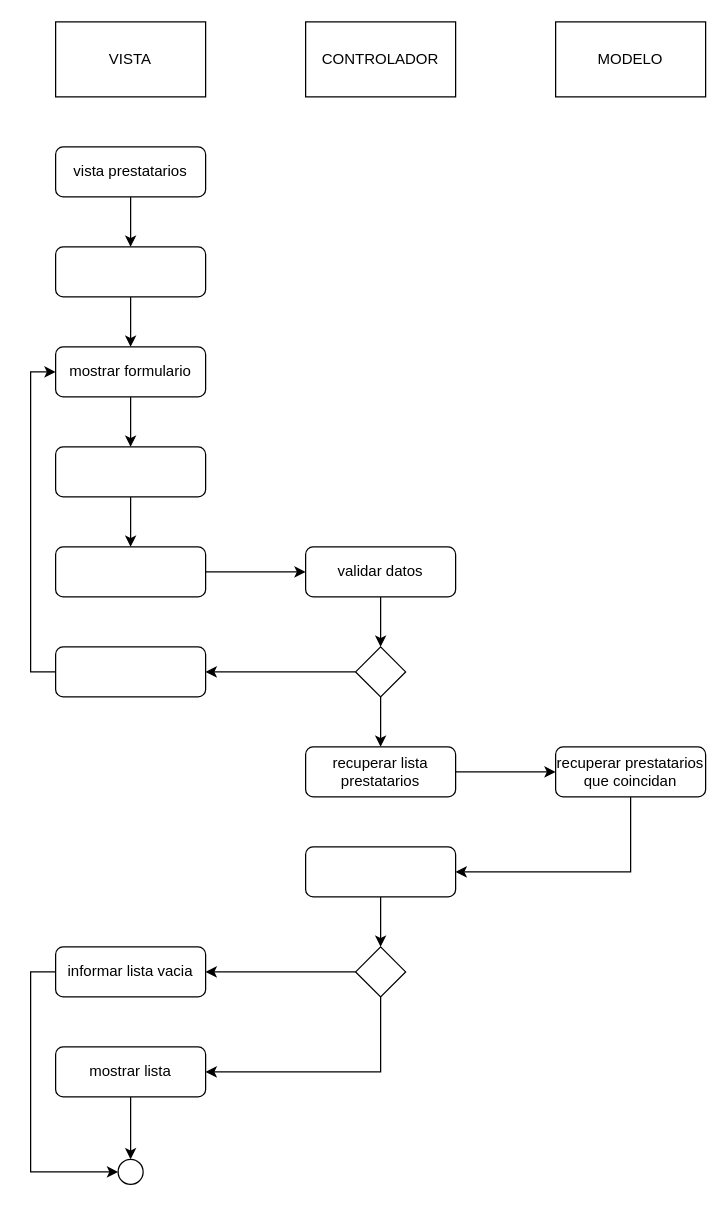
The diagram is 728 pixels wide and 1206 high, and some of its shapes have lost their labels. Each missing label, with the box of its shape:
completar formulario: (54, 446, 206, 497)
comprobar lista: (304, 846, 456, 897)
confirmar formulario: (54, 546, 206, 597)
informar error: (54, 646, 206, 697)
listar prestatarios por dni: (54, 246, 206, 297)
